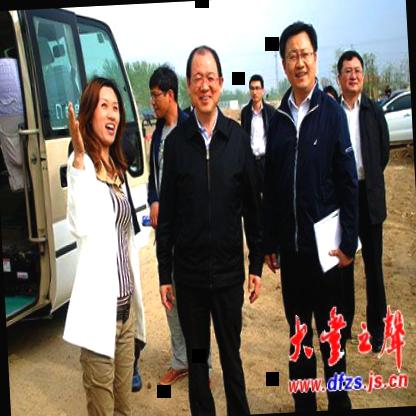head: (77, 78, 124, 160), (276, 18, 323, 98), (181, 41, 228, 120), (148, 62, 181, 125), (333, 44, 367, 102), (245, 72, 268, 108)
